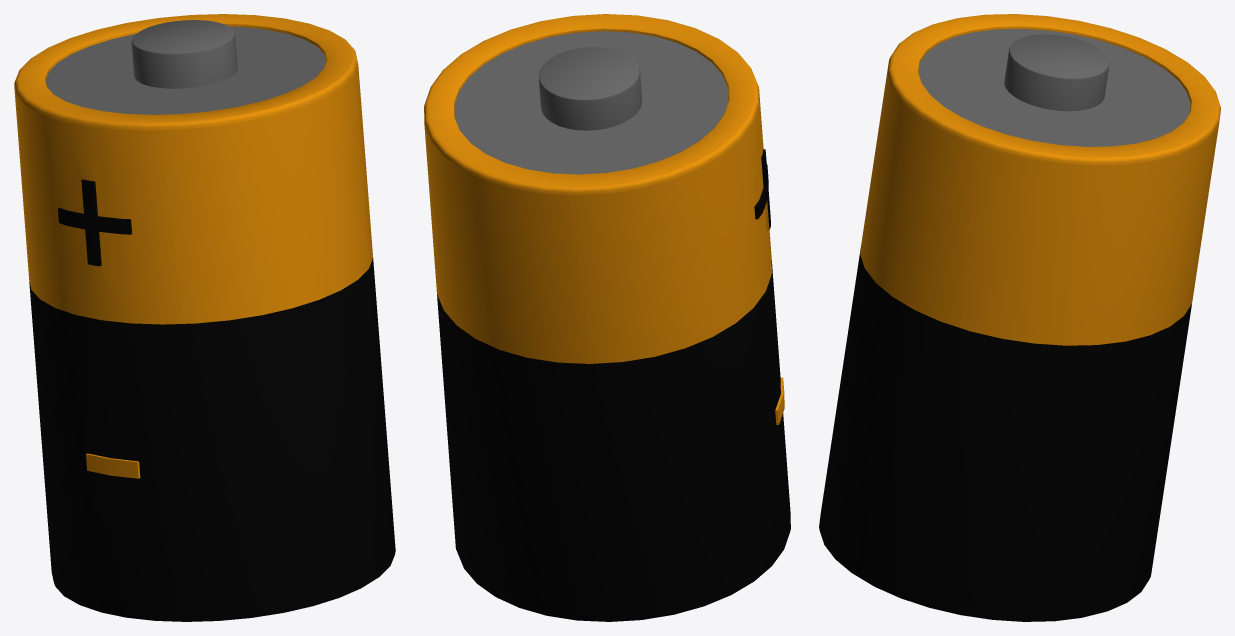
File: Battery.fbx
3 renders of one model, left to right at view 1: azimuth 30°, elevation 25°; view 2: azimuth 150°, elevation 25°; view 3: azimuth 270°, elevation 25°, orthographic. The views are drawn at different scales.
Parts seen in each view (by area): view 1: Cylinder; view 2: Cylinder; view 3: Cylinder.
Boxes of the visible parts, x1,y1,x2,y2 form: Cylinder: [14, 14, 395, 621]; Cylinder: [424, 14, 790, 621]; Cylinder: [819, 14, 1220, 621].
Size of the model in its own units: 65.84 by 110 by 77.49.
